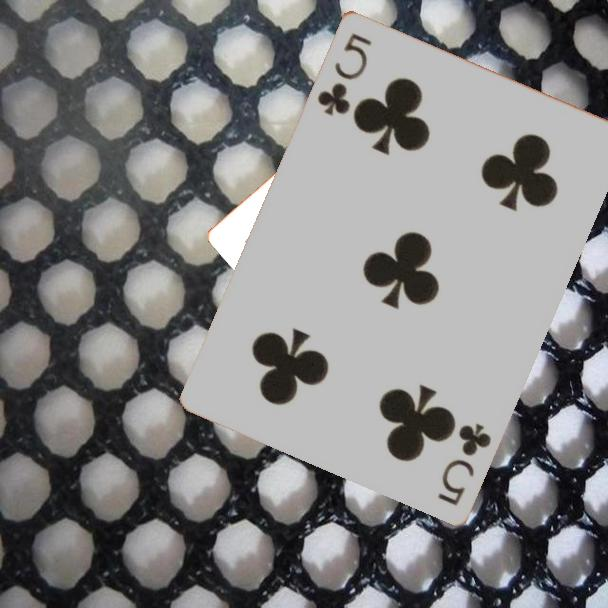c05: (313, 29, 375, 119), (434, 419, 495, 509)
